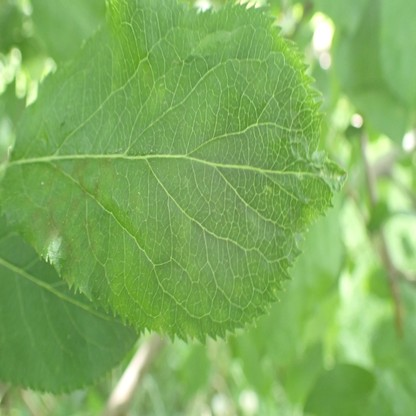scab: (33, 201, 77, 264), (82, 220, 95, 253), (46, 165, 61, 193), (70, 158, 90, 178), (75, 177, 88, 201), (96, 156, 112, 168), (92, 177, 99, 200)
